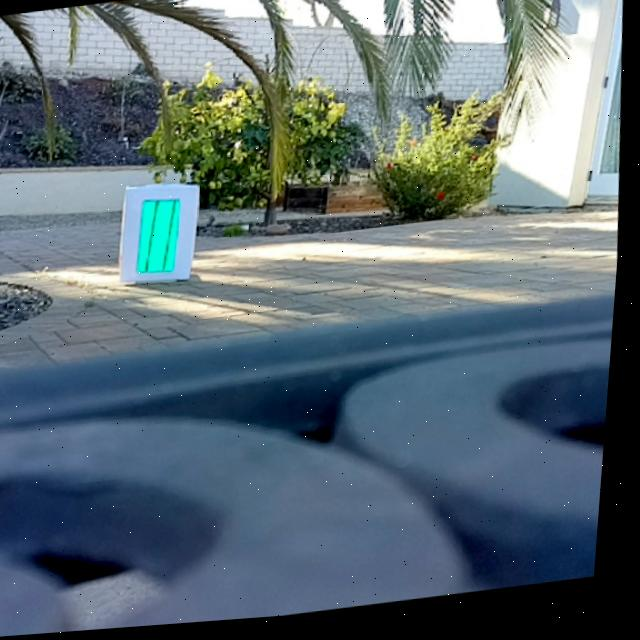led: (138, 196, 188, 281)
